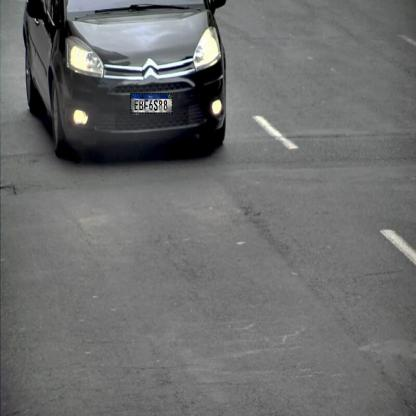PlacaM: (130, 93, 173, 114)
